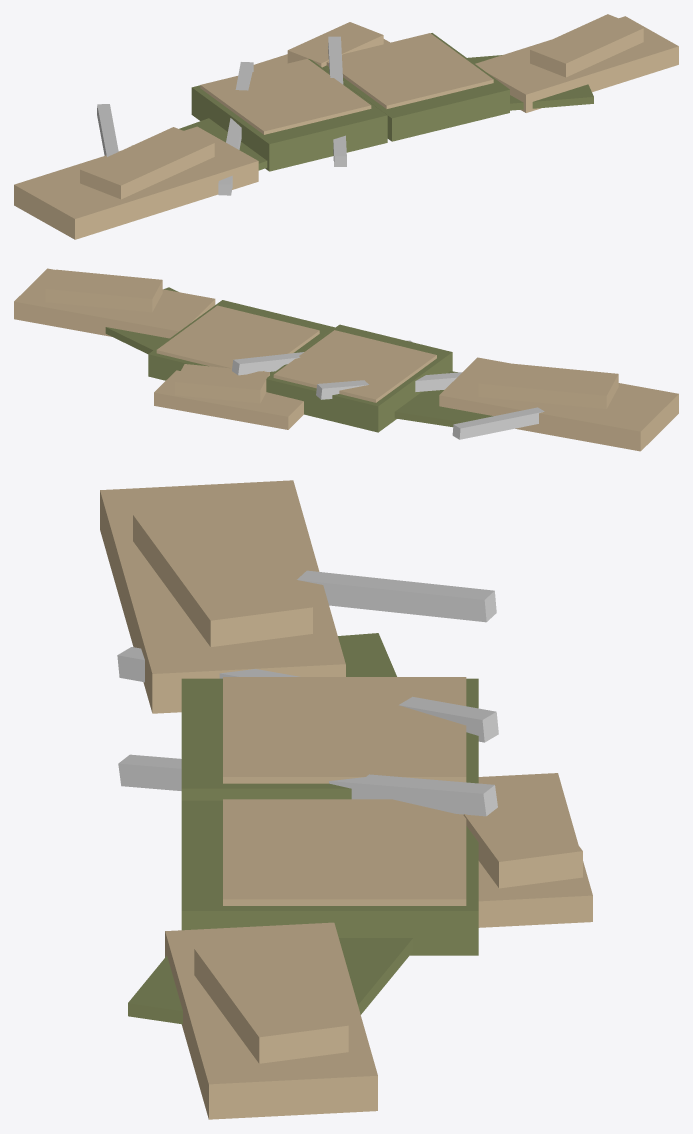
The model's file is SM_HescoCorto2_v0_MallaLimpia_e3_Brecha_LOD1.fbx.
3 views of the same model, one above another, from view 1: azimuth 30°, elevation 25°; view 2: azimuth 150°, elevation 25°; view 3: azimuth 270°, elevation 25° (orthographic). The views are drawn at different scales.
Parts seen in each view (by area): view 1: SM_hesco_piezas_v63_LOD1; view 2: SM_hesco_piezas_v63_LOD1; view 3: SM_hesco_piezas_v63_LOD1.
Boxes of the visible parts, x1,y1,x2,y2 form: SM_hesco_piezas_v63_LOD1: (14,14,678,239); SM_hesco_piezas_v63_LOD1: (14,268,678,451); SM_hesco_piezas_v63_LOD1: (100,480,592,1119).
Size of the model in its own units: 5.83 by 0.351 by 2.02.
